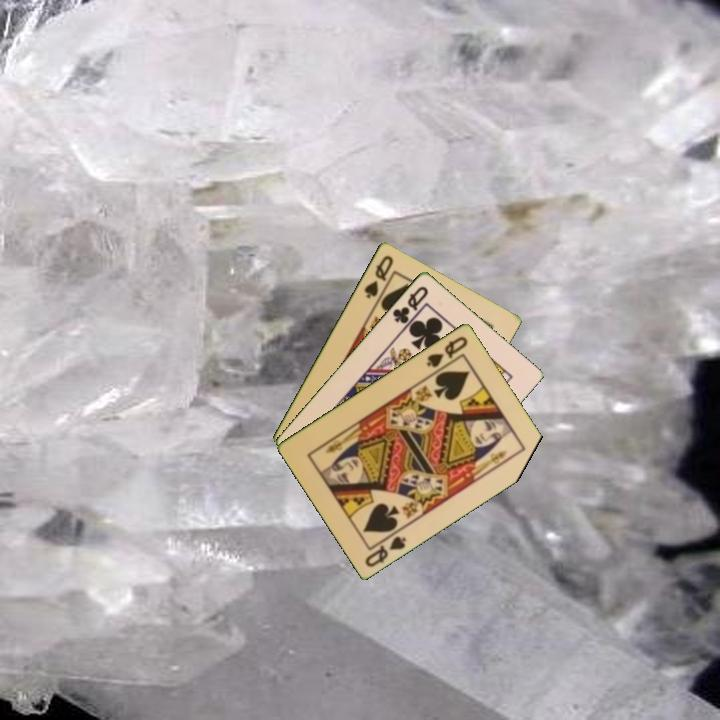Qc: (389, 282, 431, 326)
Qs: (361, 532, 410, 570), (423, 332, 471, 370), (360, 251, 396, 301)
